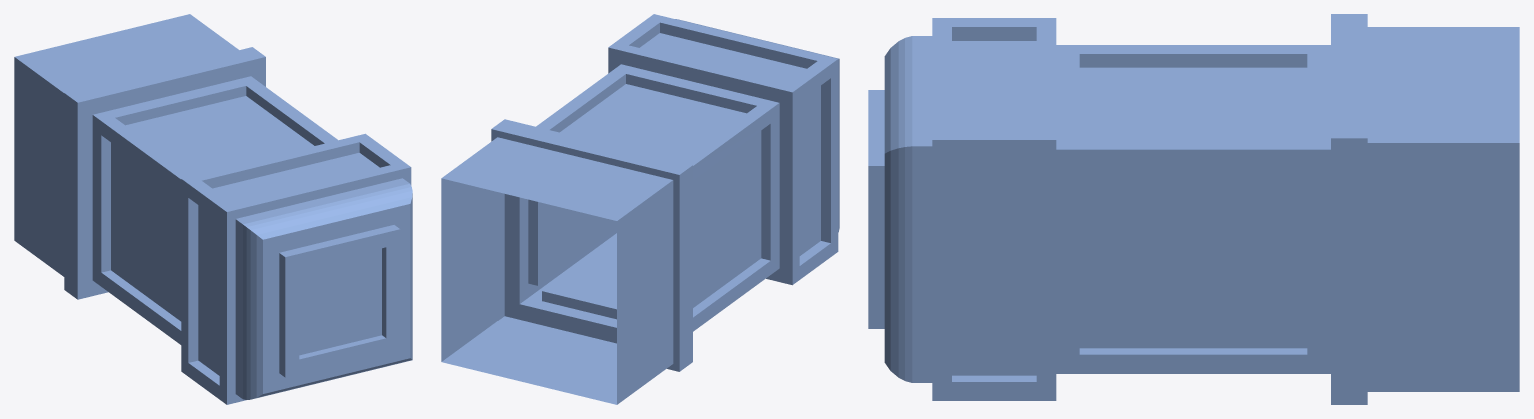
File: pillar.glb
The picture shows the model from 3 angles, left to right: view 1: azimuth 30°, elevation 25°; view 2: azimuth 150°, elevation 25°; view 3: azimuth 270°, elevation 25°; orthographic projection. The views are drawn at different scales.
Visible parts, largest first — view 1: Cube; view 2: Cube; view 3: Cube.
Part boxes in pixels (x1,y1,x2,y2): Cube: (14,14,412,404); Cube: (441,14,839,404); Cube: (868,14,1519,404).
Size of the model in its own units: 15.32 by 15.32 by 33.9.
